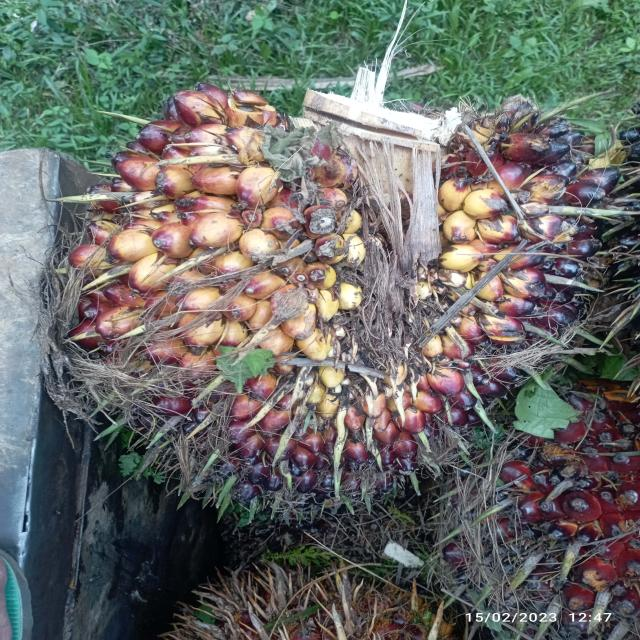fraksi 00: (64, 33, 584, 554)
